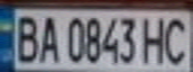0: (63, 12, 84, 63)
3: (118, 13, 142, 64)
4: (100, 13, 121, 64)
8: (81, 13, 103, 64)
A: (36, 11, 60, 64)
B: (9, 11, 42, 64)
C: (160, 12, 193, 65)
H: (139, 12, 172, 65)
